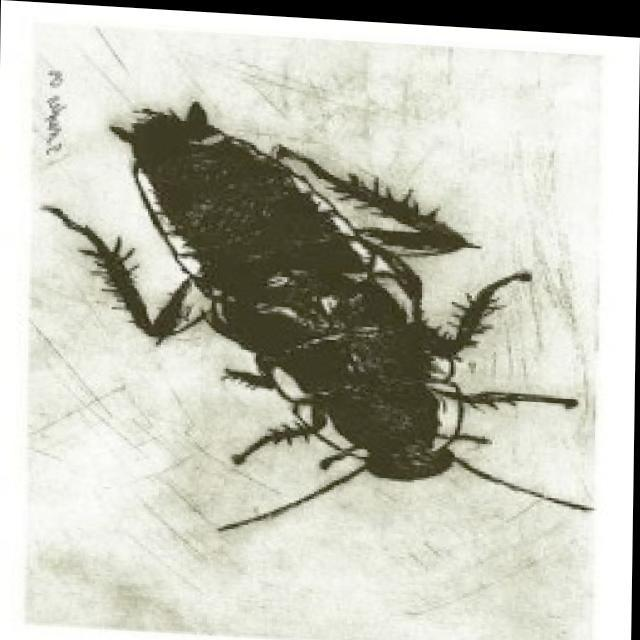cockroach: (42, 94, 593, 535)
